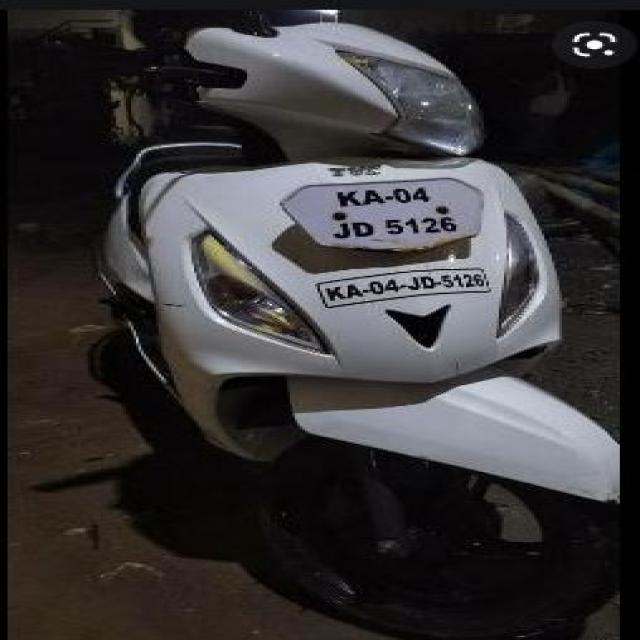license_plate: (280, 175, 483, 252)
